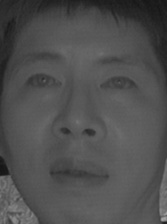eye: (97, 69, 137, 98), (21, 70, 62, 93)
mouth: (44, 152, 110, 194)
